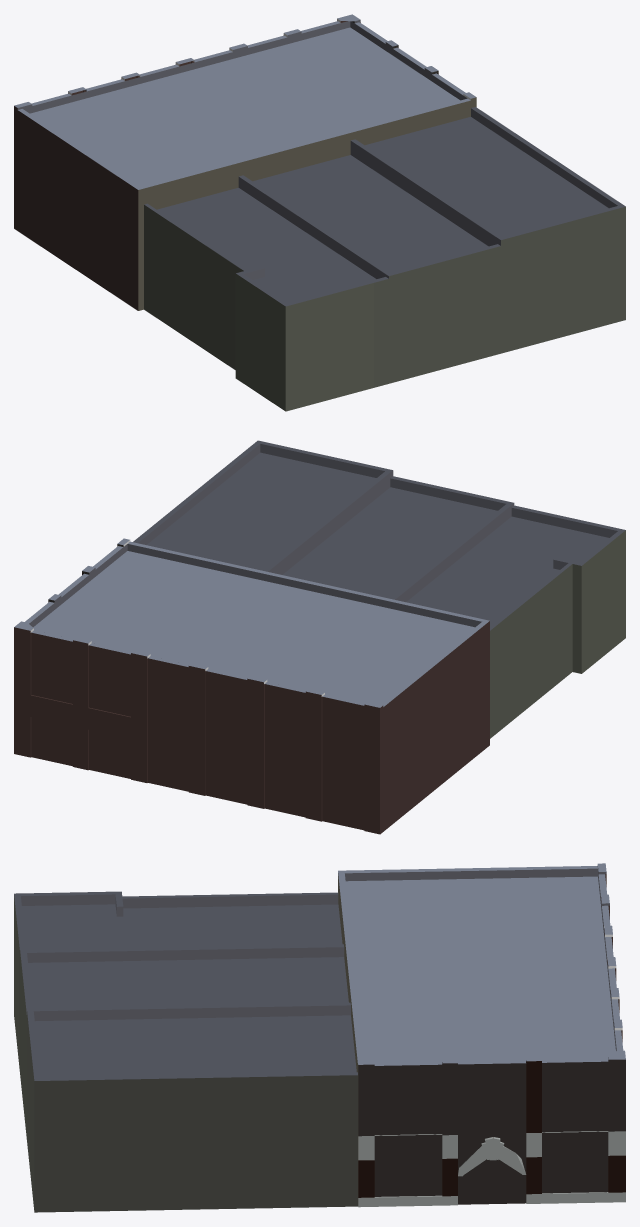
File: 401-broad-street.glb
3 views of the same model, one above another, from view 1: azimuth 30°, elevation 25°; view 2: azimuth 150°, elevation 25°; view 3: azimuth 270°, elevation 25° (orthographic). The views are drawn at different scales.
Visible parts, largest first — view 1: LOD0; view 2: LOD0; view 3: LOD0.
Boxes of the visible parts, <box> form: LOD0: <box>14,14,625,411</box>; LOD0: <box>14,440,625,834</box>; LOD0: <box>14,863,625,1212</box>.
Size of what is drawn, in the model's own units: 34.03 by 10.97 by 42.61.
Materials: 2 (2 with a texture image).
